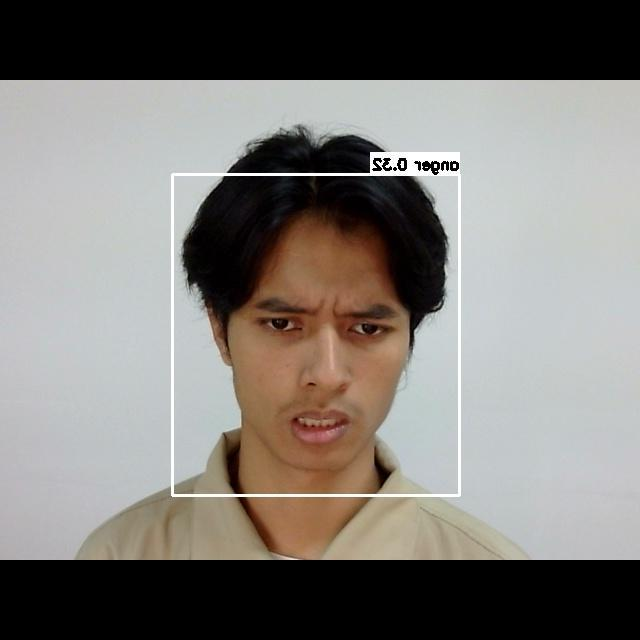Disgust: (222, 264, 418, 459)
